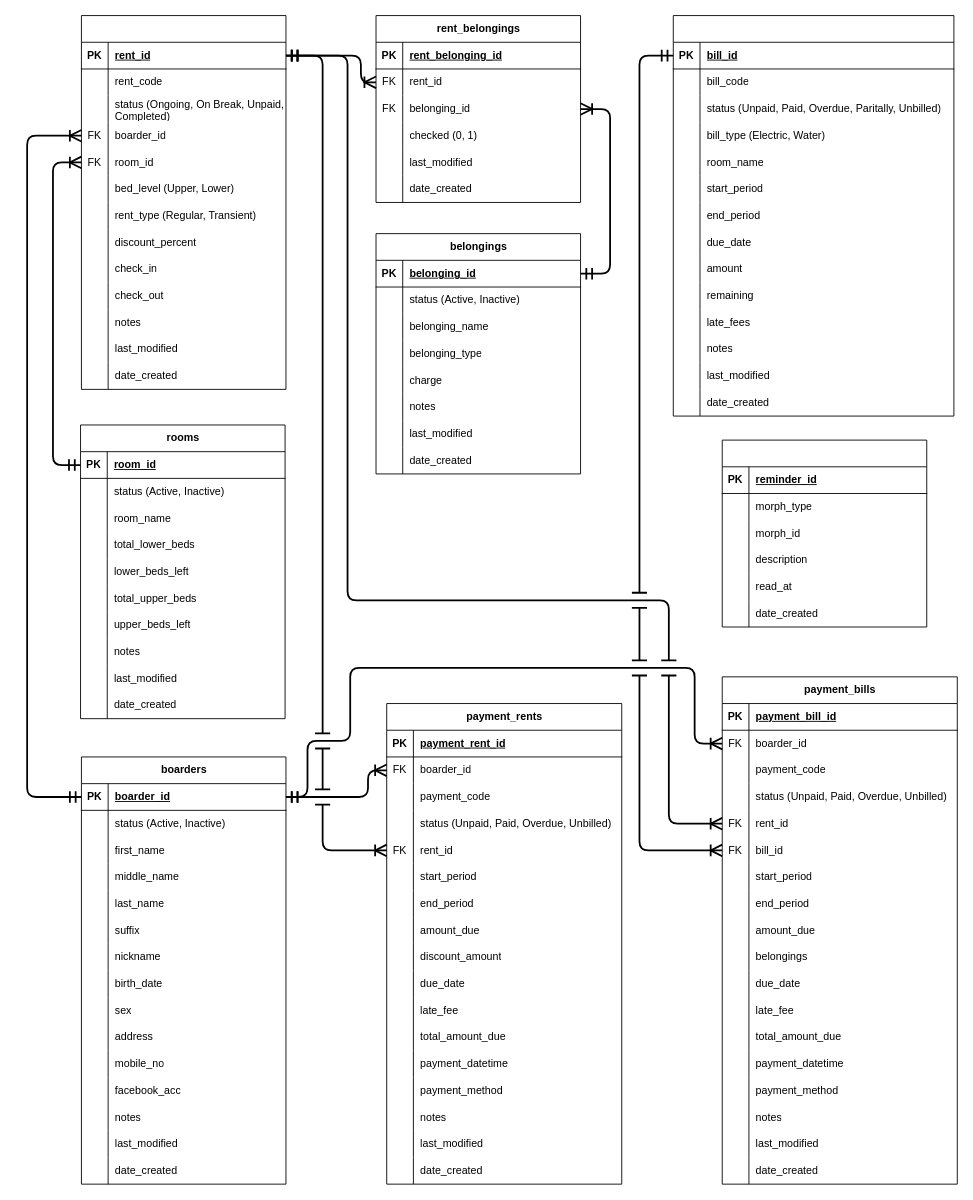
This 973x1200 diagram has some shape labels left out. The box of each missing label's shape, as (x1, y1, x2, y2) in pixels:
bills: (672, 15, 954, 416)
reminders: (721, 439, 927, 627)
rents: (81, 15, 286, 389)
